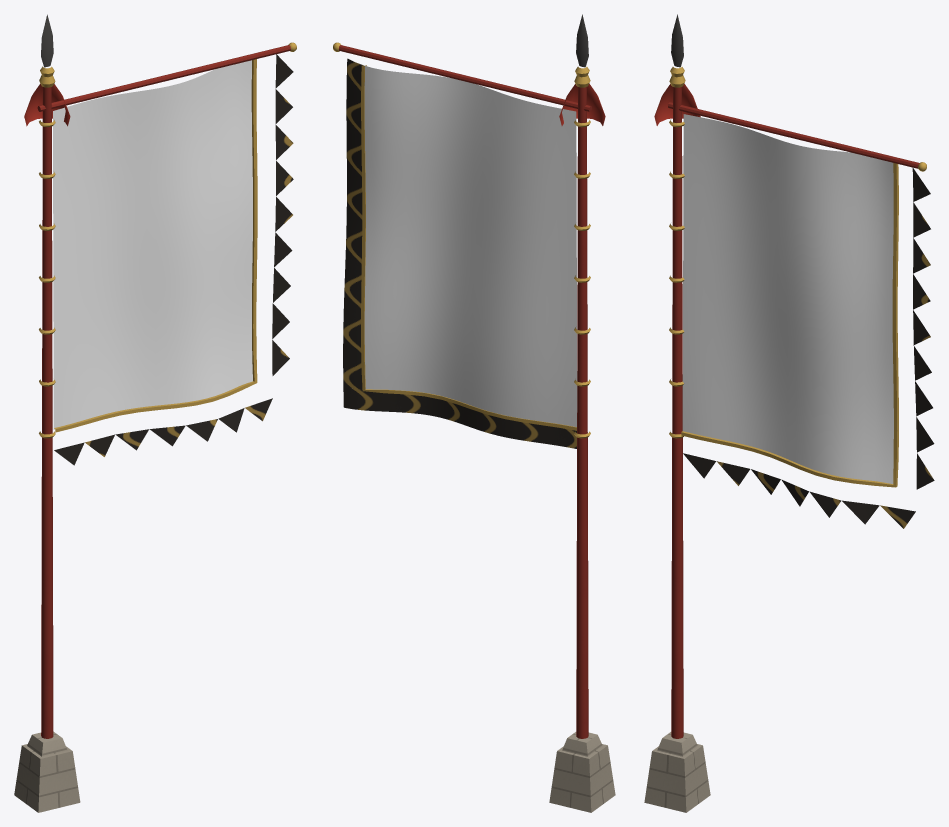
Rendered from Banner.glb.
3 renders of one model, left to right at view 1: azimuth 30°, elevation 25°; view 2: azimuth 150°, elevation 25°; view 3: azimuth 330°, elevation 25°, orthographic.
Parts seen in each view (by area): view 1: P_Banner; view 2: P_Banner; view 3: P_Banner.
Boxes of the visible parts, x1,y1,x2,y2 form: P_Banner: (14, 14, 296, 812); P_Banner: (333, 14, 615, 812); P_Banner: (644, 14, 934, 812).
Bounding box in the file's own units: 8.38 × 23.2 × 1.3.
2 materials, 1 textured.
